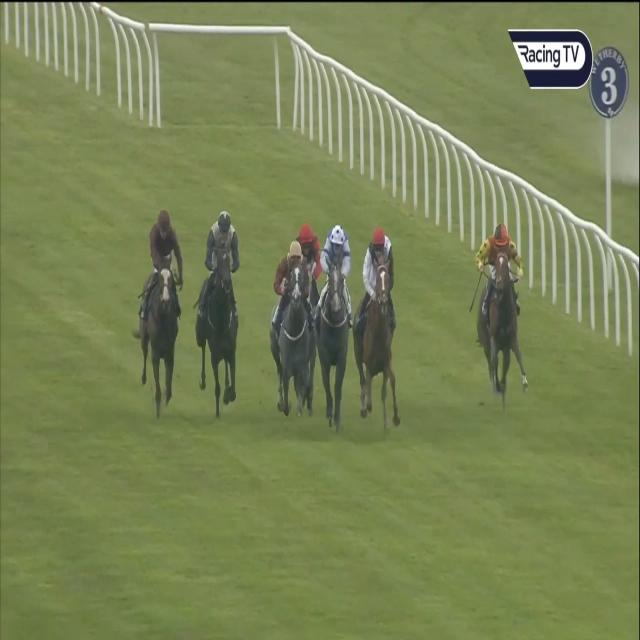horses-racing: (466, 222, 546, 398), (135, 205, 186, 433), (196, 200, 243, 432), (354, 230, 404, 423), (269, 243, 319, 417), (314, 222, 350, 428), (283, 222, 324, 309)
